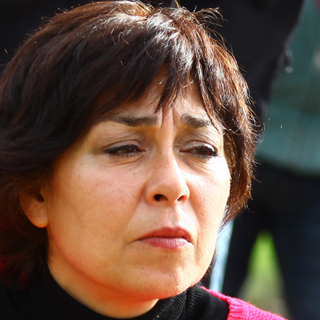eye: (175, 135, 225, 163), (99, 136, 147, 160)
